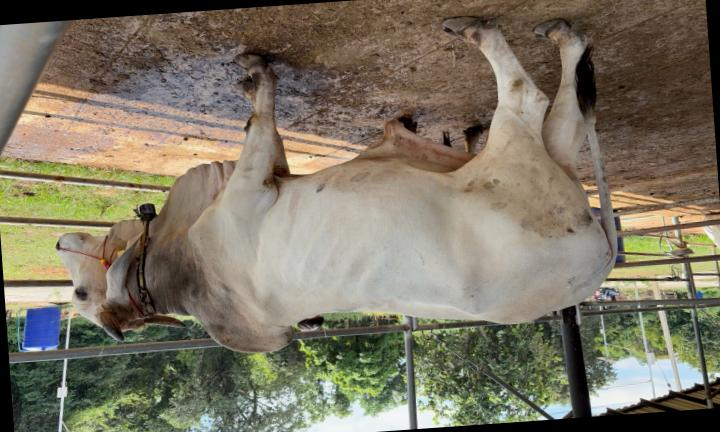Brahman: (57, 17, 616, 352)
